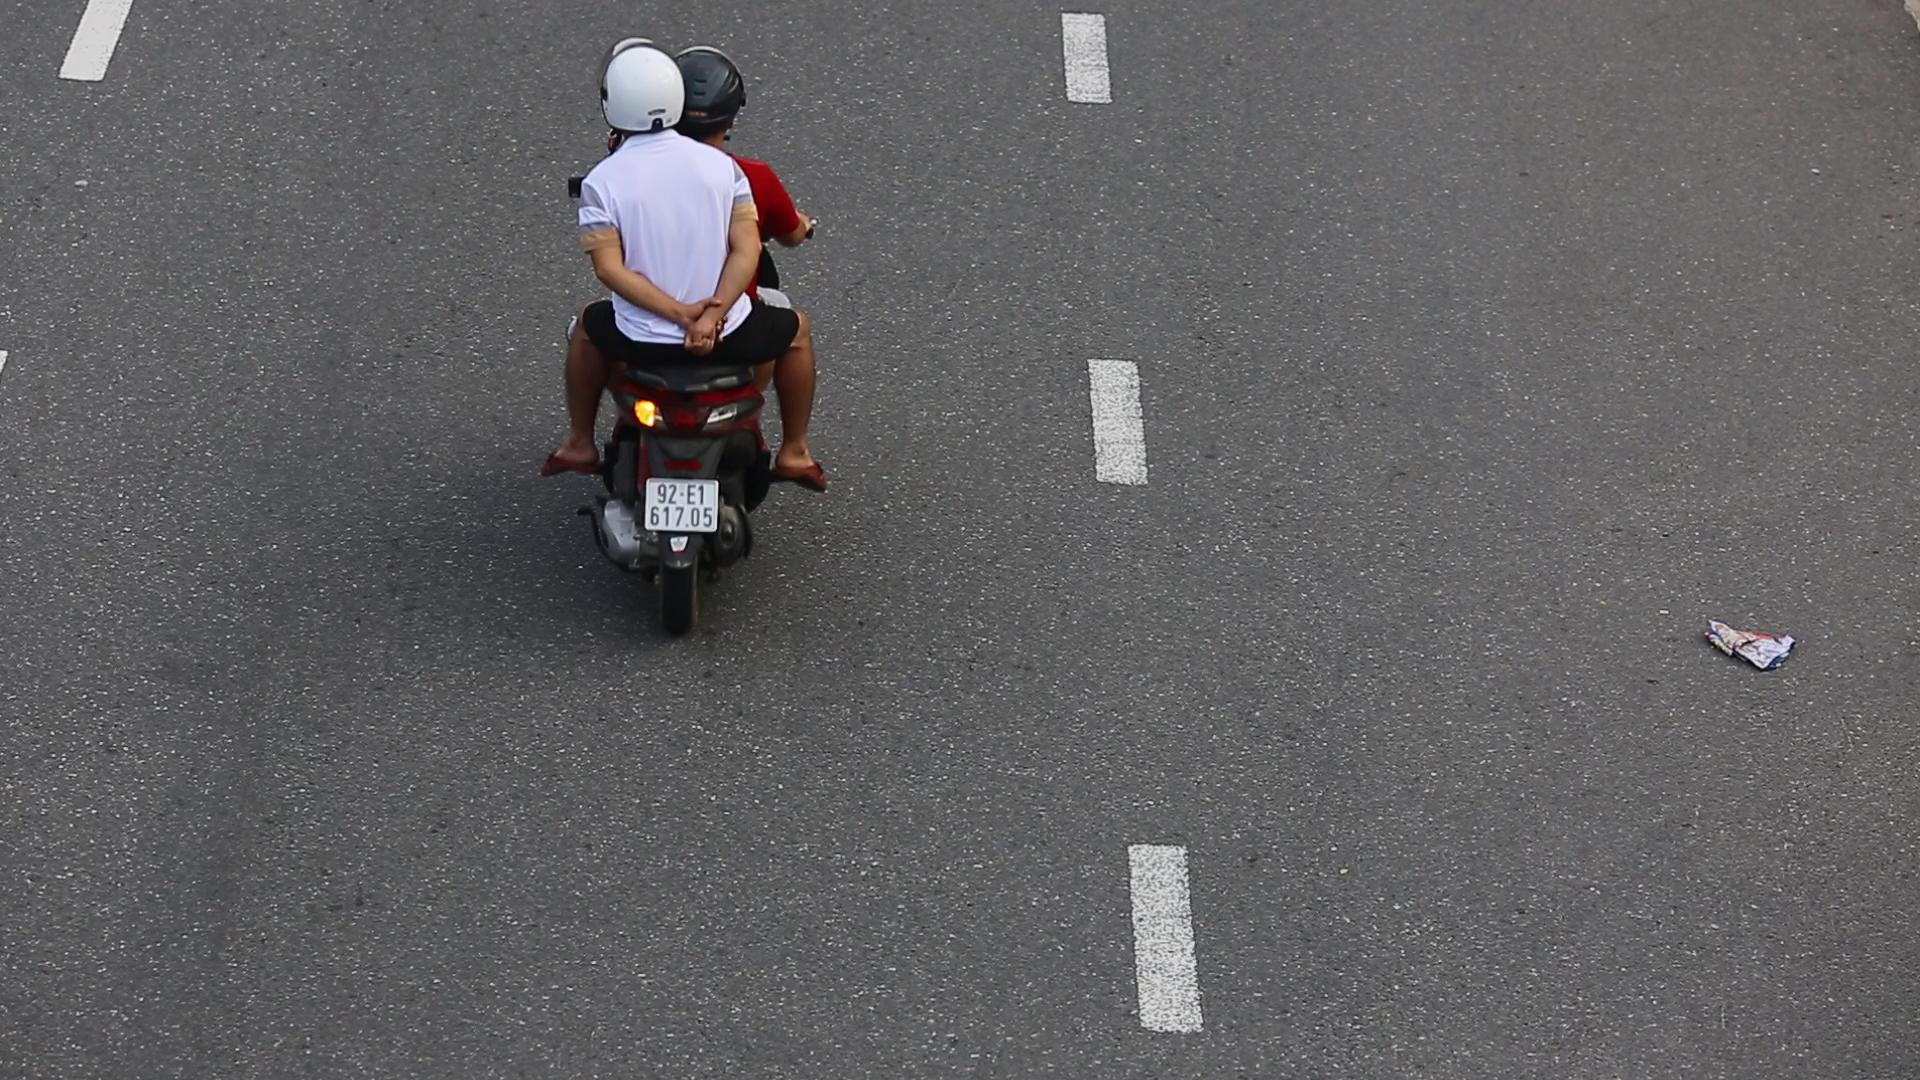motobike: (537, 24, 845, 665)
